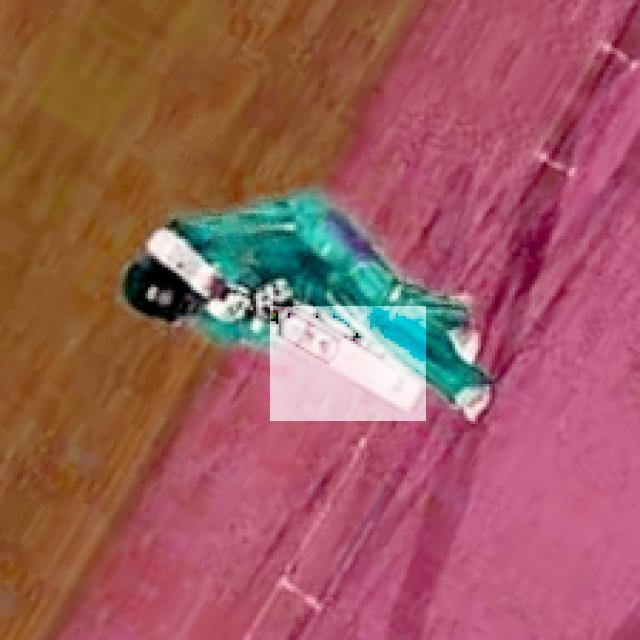bat: (271, 308, 429, 423)
toe: (404, 381, 428, 425)
